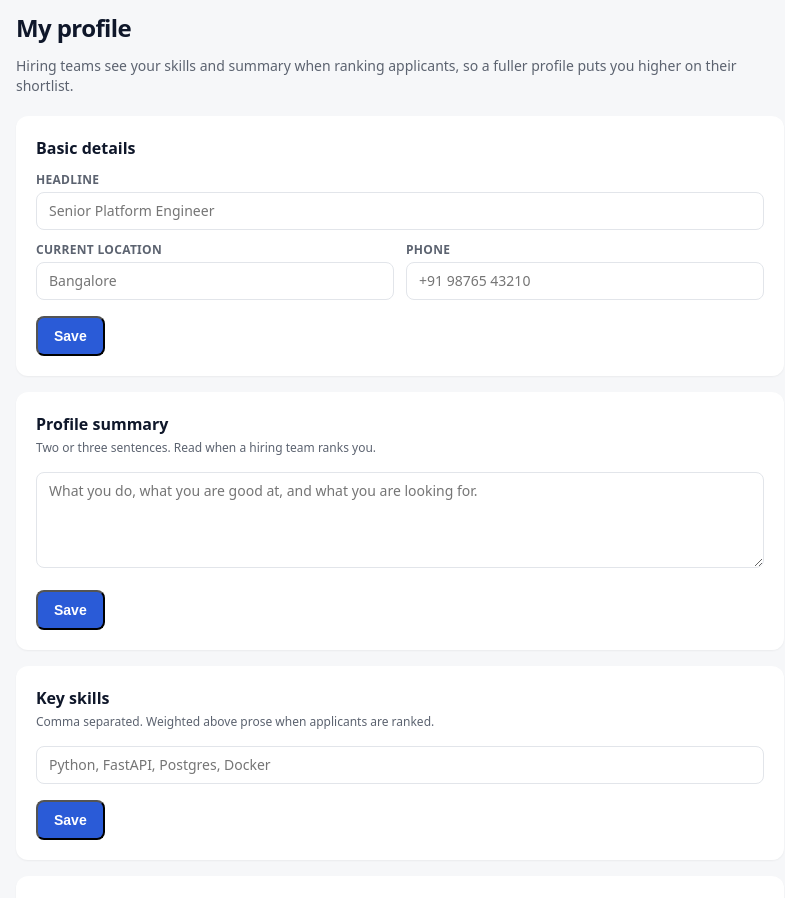
Test: ProfilePage › previews the skill list as it is typed
Type "Python, Docker" into the field named "key skills". click: (400, 765)
box: x1=36 y1=746 x2=764 y2=784
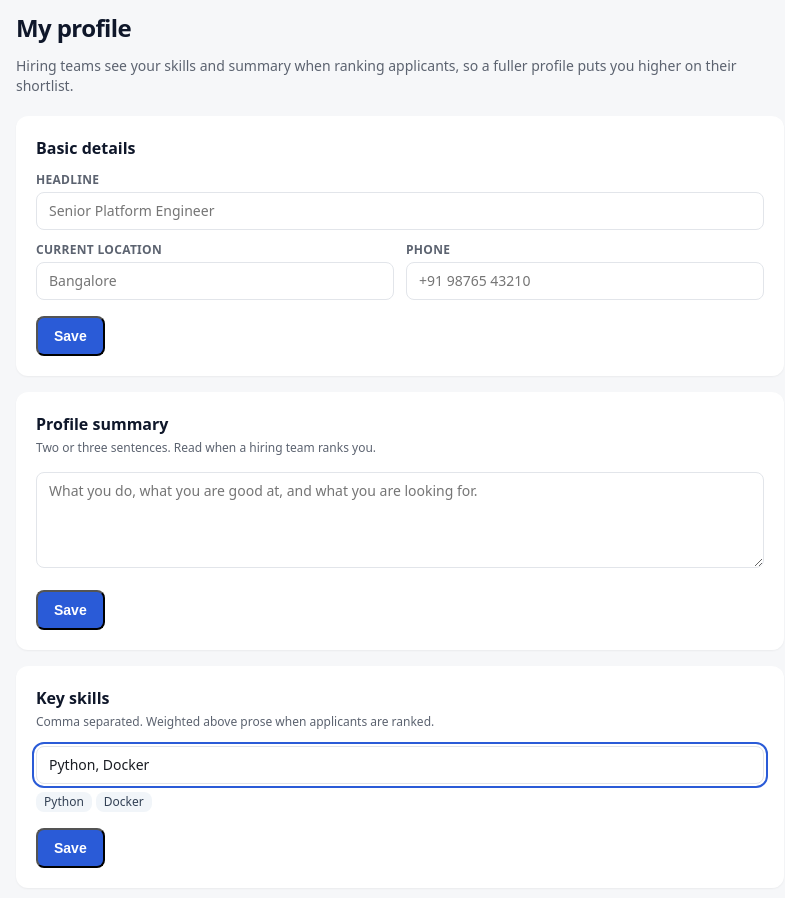
Check: the text "Python" is shown, box x1=36 y1=792 x2=92 y2=812
Check: the text "Docker" is shown, box x1=96 y1=792 x2=152 y2=812
